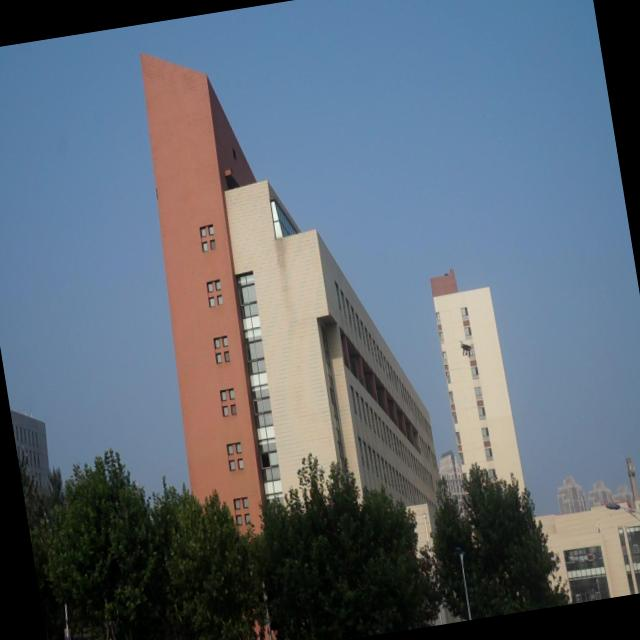drone: (456, 335, 476, 357)
